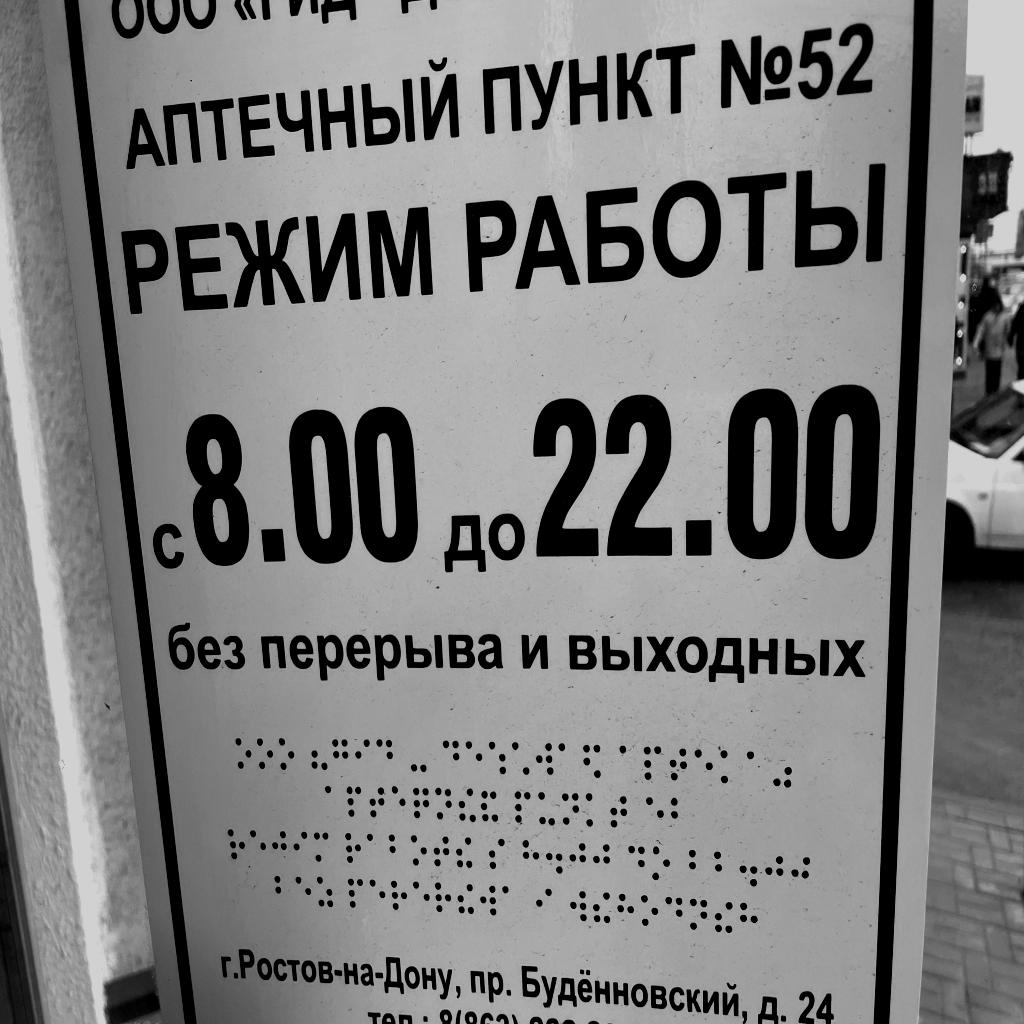_n: (688, 897, 709, 932), (562, 791, 580, 826), (434, 787, 452, 819)
_y: (538, 790, 556, 827)
a: (558, 742, 576, 776), (746, 750, 764, 784), (619, 744, 636, 779), (501, 885, 518, 918), (366, 833, 382, 867), (325, 784, 341, 816)
b: (387, 833, 404, 867), (274, 874, 290, 908)
ch: (413, 787, 430, 818)
d: (627, 844, 646, 879), (664, 896, 683, 929), (442, 739, 460, 773), (375, 738, 393, 770)
defis: (410, 742, 428, 775)
e: (694, 748, 713, 784), (413, 879, 431, 915), (465, 739, 483, 773), (295, 875, 312, 909), (369, 877, 386, 911), (250, 830, 266, 864), (392, 785, 408, 818)
g: (332, 739, 348, 771)
gh: (271, 831, 287, 862)
i: (536, 885, 554, 921), (354, 738, 371, 769), (293, 831, 308, 863)
iKratkoe: (481, 789, 500, 823)
ii: (713, 900, 735, 934), (593, 891, 612, 924), (459, 788, 477, 822), (457, 881, 475, 915), (456, 834, 473, 868)
k: (720, 750, 740, 784), (584, 791, 602, 827)
kavichki1: (311, 739, 328, 772)
kavichki2: (773, 752, 792, 789)
m: (314, 829, 330, 863)
o: (652, 845, 672, 881), (640, 894, 659, 928), (410, 834, 428, 868), (235, 736, 252, 771), (257, 737, 274, 771), (279, 738, 294, 772)
p: (643, 745, 662, 780), (514, 792, 532, 824), (346, 785, 362, 818), (348, 878, 365, 909)
r: (227, 827, 245, 861), (434, 879, 452, 913), (390, 878, 408, 911), (344, 832, 361, 865)
s: (489, 837, 507, 870)
sh: (488, 741, 507, 776)
t: (610, 794, 629, 828), (670, 746, 688, 781), (369, 784, 387, 818), (433, 836, 451, 867)
tochka: (739, 851, 758, 888), (545, 839, 563, 876)
v: (536, 741, 554, 775), (480, 883, 497, 918), (570, 890, 588, 923)
x: (739, 901, 759, 936), (617, 893, 635, 927)
ya: (583, 744, 602, 780)
yo: (512, 741, 530, 777)
z: (317, 876, 334, 909)
